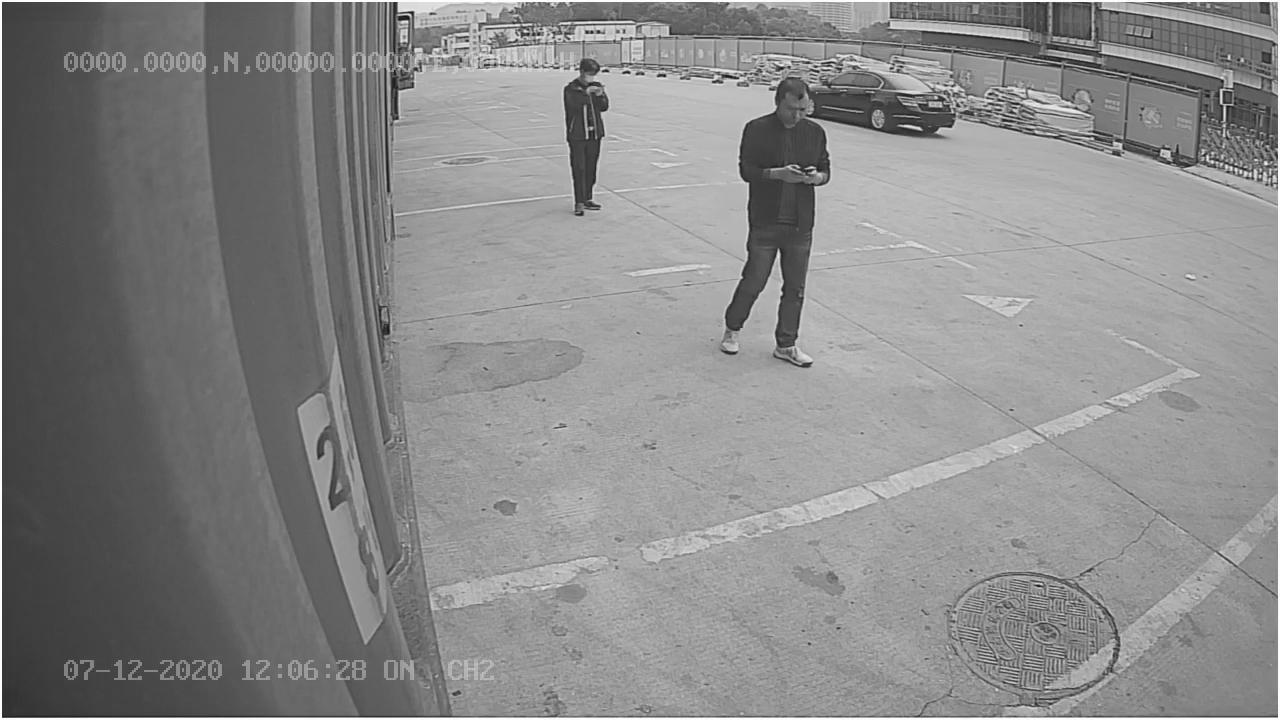person: (714, 73, 831, 369)
